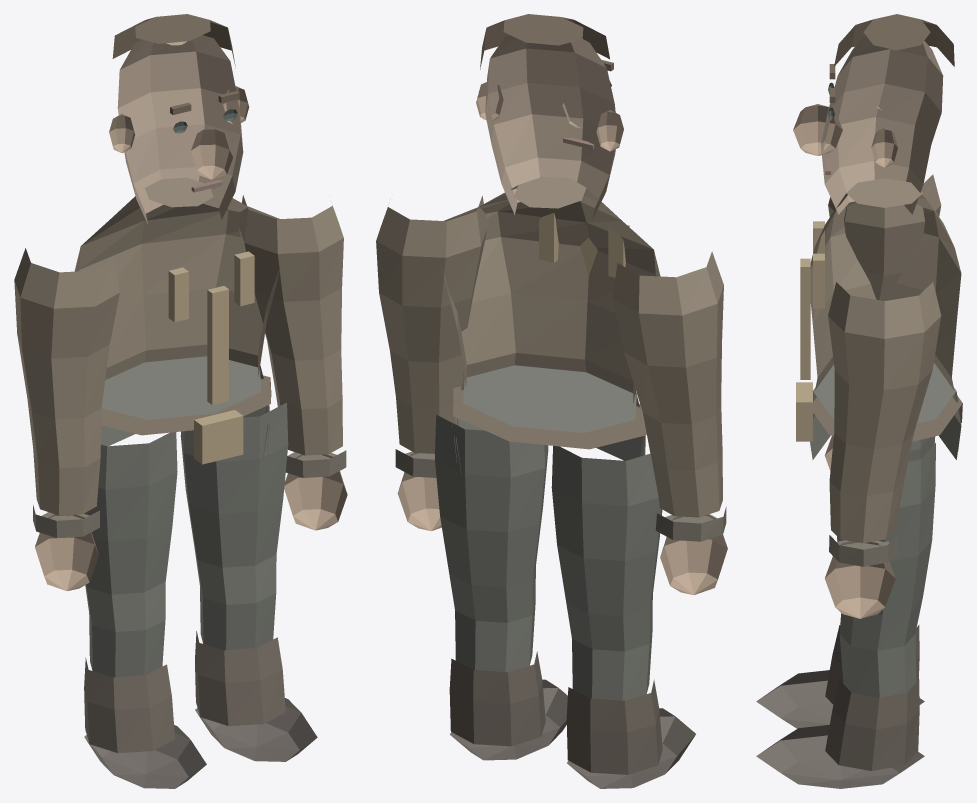
Rendered from villager_1000_2.glb.
3 views of the same model, side by side, from view 1: azimuth 30°, elevation 25°; view 2: azimuth 150°, elevation 25°; view 3: azimuth 270°, elevation 25° (orthographic). The views are drawn at different scales.
Parts seen in each view (by area): view 1: body_0, leftArm_0, rightLeg_0, rightArm_0, leftLeg_0, head_0, body_1, leftLeg_1, rightLeg_1, rightLeg_2, leftLeg_2, leftArm_2 (+11 smaller); view 2: body_0, leftLeg_0, rightLeg_0, leftArm_0, rightArm_0, head_0, body_1, leftLeg_1, rightLeg_1, body_2, leftArm_2, head_9 (+8 smaller); view 3: rightArm_0, head_0, rightLeg_0, body_0, rightLeg_1, leftArm_0, rightLeg_2, rightArm_2, head_9, leftLeg_2, body_1, head_1 (+8 smaller).
Boxes of the visible parts, x1,y1,x2,y2 form: body_0: (74,177,279,450); leftArm_0: (14,248,119,515); rightLeg_0: (180,402,288,650); rightArm_0: (238,195,343,455); leftLeg_0: (84,432,177,677); head_0: (117,35,243,223); body_1: (101,356,268,458); leftLeg_1: (84,657,174,752); rightLeg_1: (195,631,285,725); rightLeg_2: (195,698,317,761); leftLeg_2: (84,725,206,788); leftArm_2: (35,514,98,590); body_0: (443,177,660,462); leftLeg_0: (551,446,662,700); rightLeg_0: (435,415,548,672); leftArm_0: (612,251,723,517); rightArm_0: (376,195,487,453); head_0: (485,35,615,219); body_1: (456,365,643,474); leftLeg_1: (566,679,662,774); rightLeg_1: (449,651,545,746); body_2: (452,386,646,449); leftArm_2: (660,514,727,594); head_9: (480,14,609,69); rightArm_0: (828,282,941,543); head_0: (821,36,943,214); rightLeg_0: (837,443,935,697); body_0: (810,178,961,450); rightLeg_1: (825,679,919,770); leftArm_0: (828,174,941,300); rightLeg_2: (756,725,924,788); rightArm_2: (824,541,895,618); head_9: (834,14,954,66); leftLeg_2: (756,670,924,728); body_1: (810,363,961,459); head_1: (793,104,842,155).
Size of the model in its own units: 0.774 by 1.66 by 0.431.
